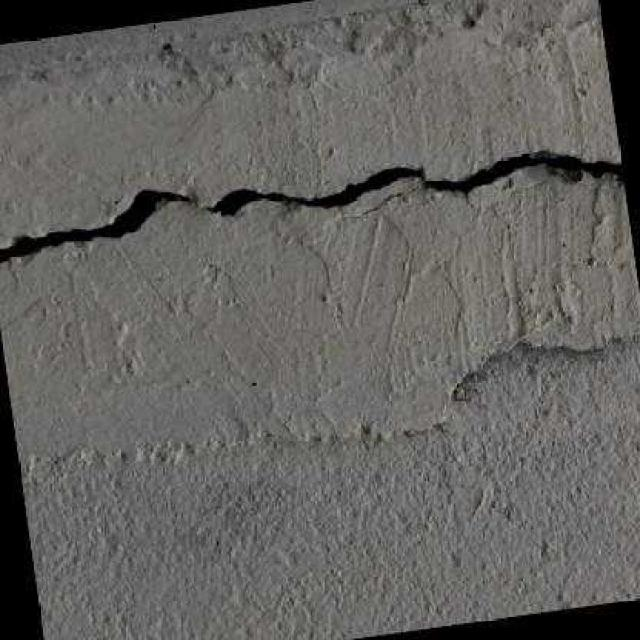D00: (0, 148, 623, 268)
